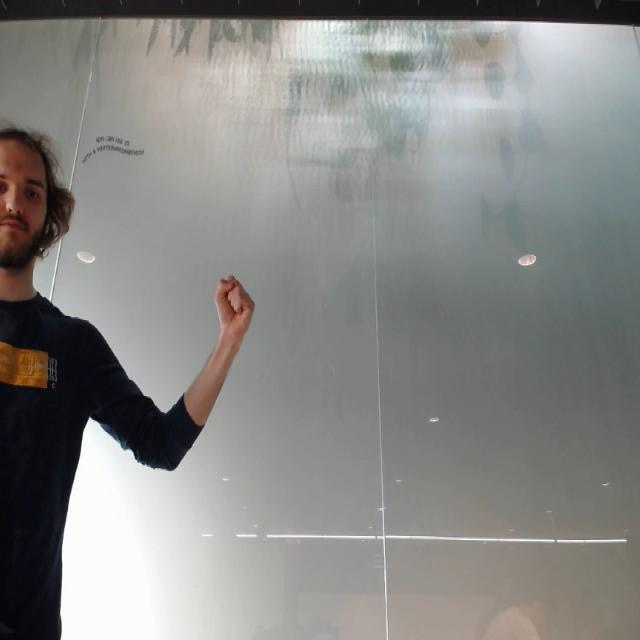stop: (212, 269, 260, 343)
